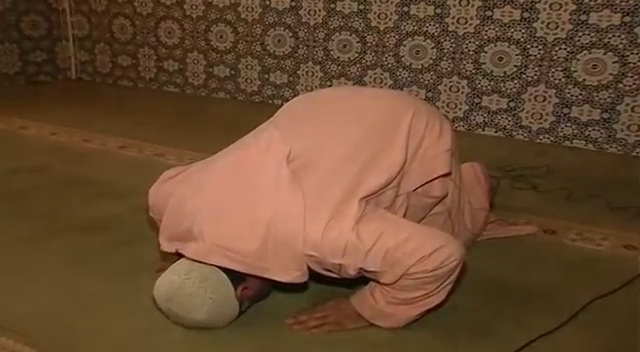sujud: (145, 85, 496, 336)
